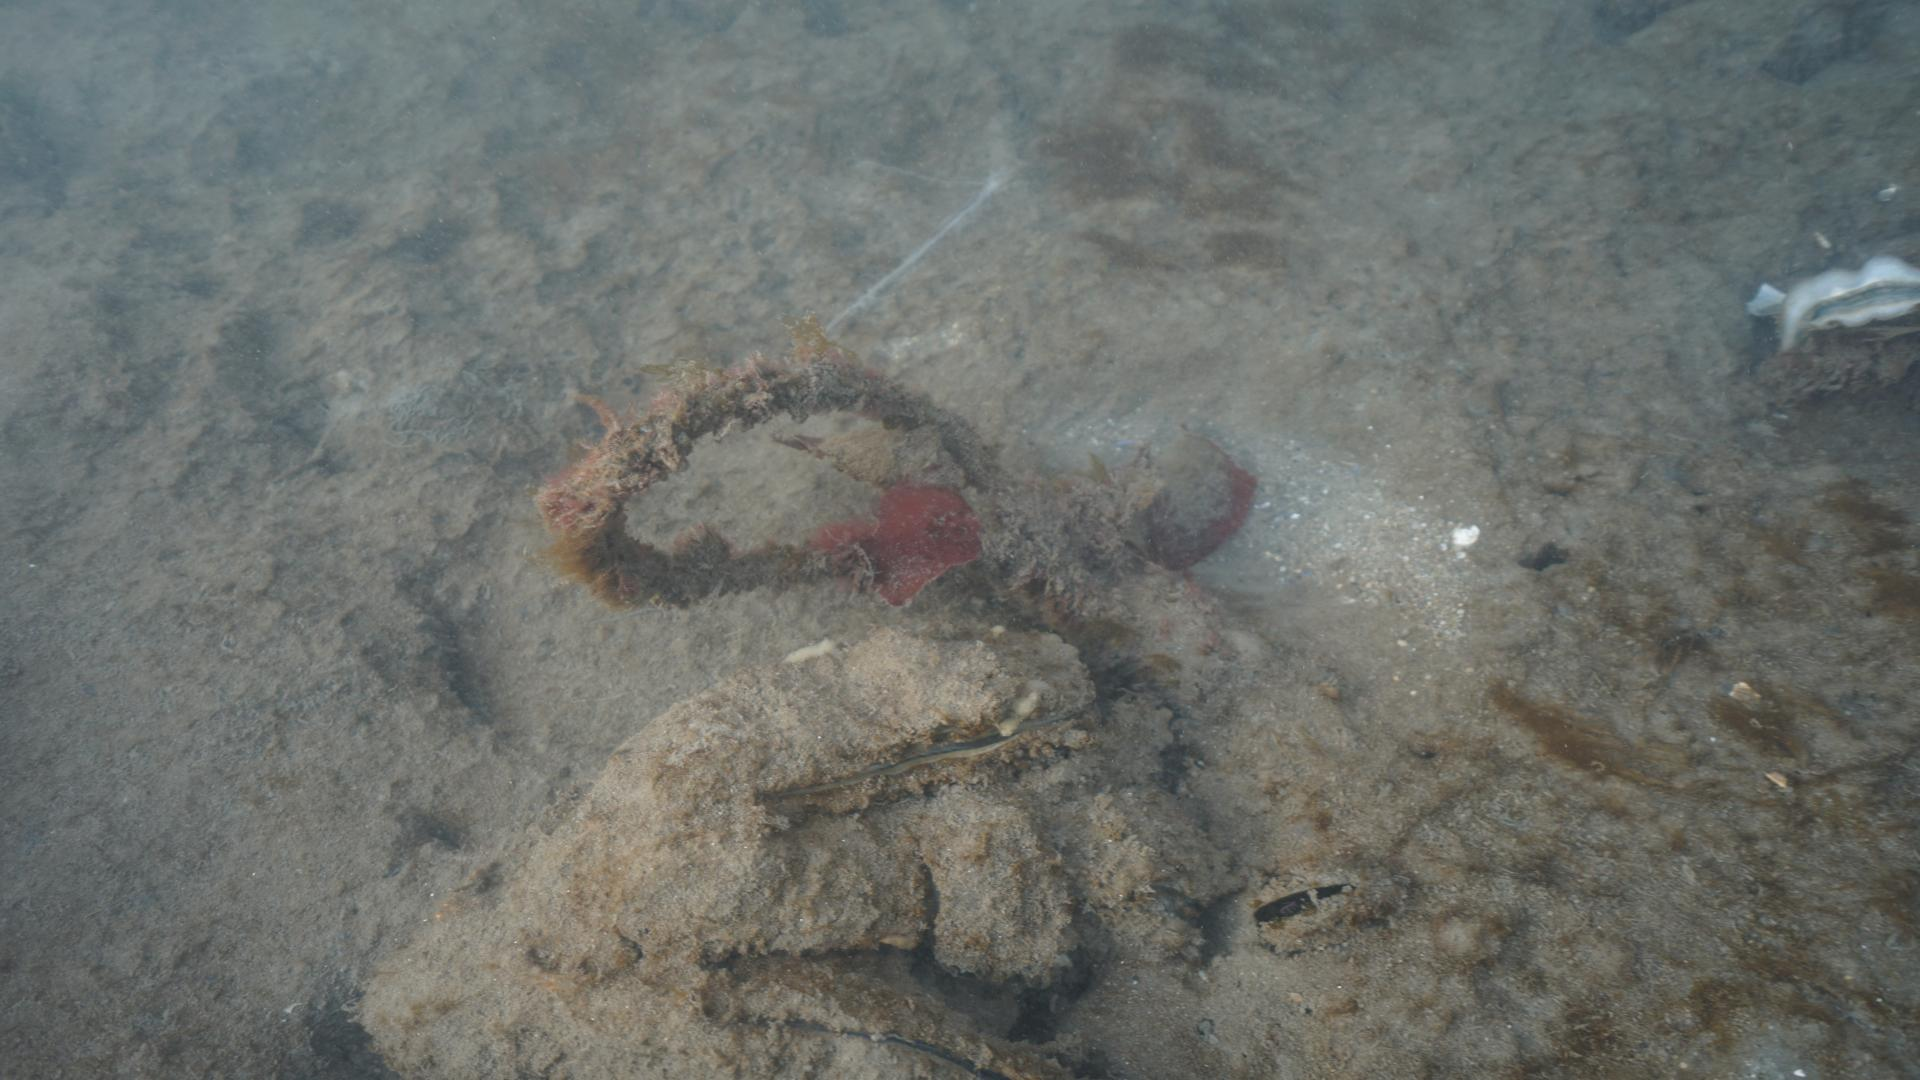rope: (531, 355, 1164, 621)
